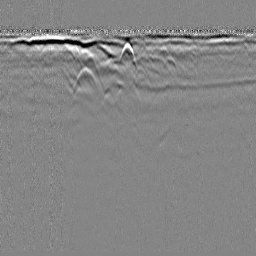cavity: (118, 41, 136, 67)
